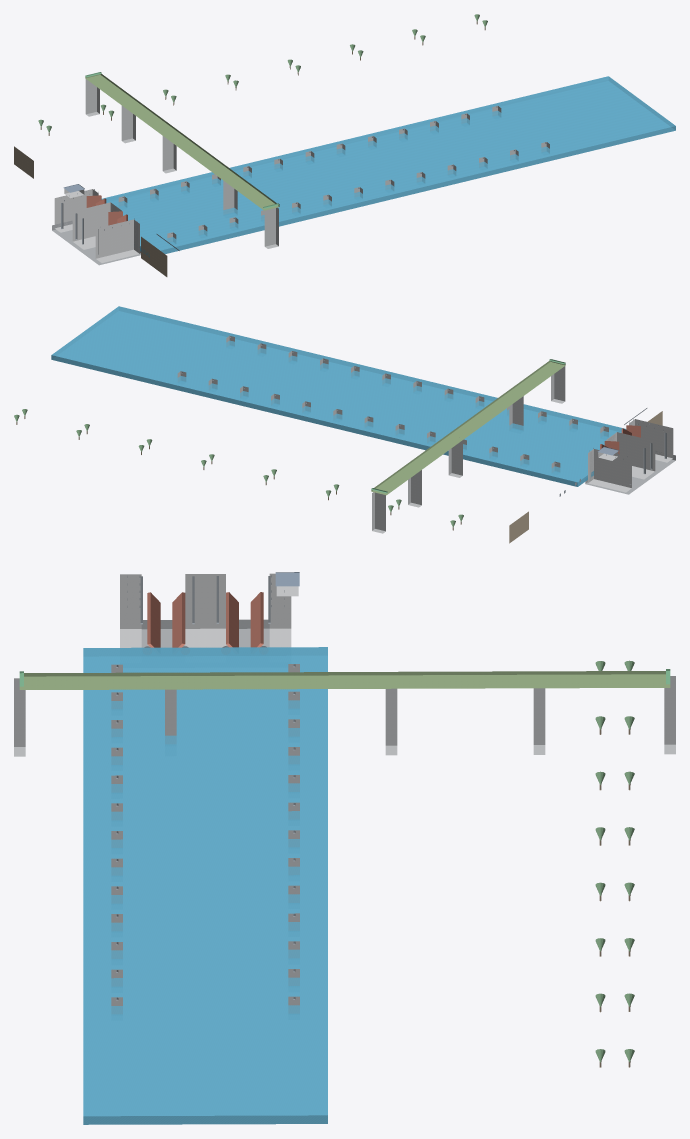
The model's file is madao-z6-downstream.glb.
The picture shows the model from 3 angles, top to bottom: view 1: azimuth 30°, elevation 25°; view 2: azimuth 150°, elevation 25°; view 3: azimuth 270°, elevation 25°; orthographic projection. The views are drawn at different scales.
Parts seen in each view (by area): view 1: water_water, concreteLight_structure, grass_eco, concrete_eco, concrete_structure, earth_structure, concreteDark_structure, tree_detail, gate_gate; view 2: water_water, concreteLight_structure, grass_eco, concrete_eco, concrete_structure, earth_structure, concreteDark_structure, tree_detail; view 3: water_water, grass_eco, concreteLight_structure, concrete_structure, concrete_eco, gate_gate, tree_detail, concreteDark_structure, steel_detail.
Boxes of the visible parts, <box> form: water_water: <box>101,76,675,257</box>; concreteLight_structure: <box>54,189,139,262</box>; grass_eco: <box>85,74,279,210</box>; concrete_eco: <box>85,79,278,248</box>; concrete_structure: <box>94,106,549,252</box>; earth_structure: <box>14,146,167,276</box>; concreteDark_structure: <box>52,220,140,265</box>; tree_detail: <box>38,14,487,132</box>; gate_gate: <box>86,195,127,225</box>; water_water: <box>51,306,626,486</box>; concreteLight_structure: <box>588,419,673,492</box>; grass_eco: <box>371,361,565,495</box>; concrete_eco: <box>372,366,565,533</box>; concrete_structure: <box>177,335,632,481</box>; earth_structure: <box>509,411,662,543</box>; concreteDark_structure: <box>585,450,675,494</box>; tree_detail: <box>14,409,463,527</box>; water_water: <box>83,647,327,1124</box>; grass_eco: <box>19,671,670,689</box>; concreteLight_structure: <box>120,573,291,647</box>; concrete_structure: <box>111,664,299,1013</box>; concrete_eco: <box>14,676,675,756</box>; gate_gate: <box>147,592,263,647</box>; tree_detail: <box>595,660,634,1062</box>; concreteDark_structure: <box>141,619,269,647</box>; steel_detail: <box>116,575,295,1000</box>.
Bounding box in the file's own units: 819 × 65.48 × 456.
Materials: 13 (13 with a texture image).
